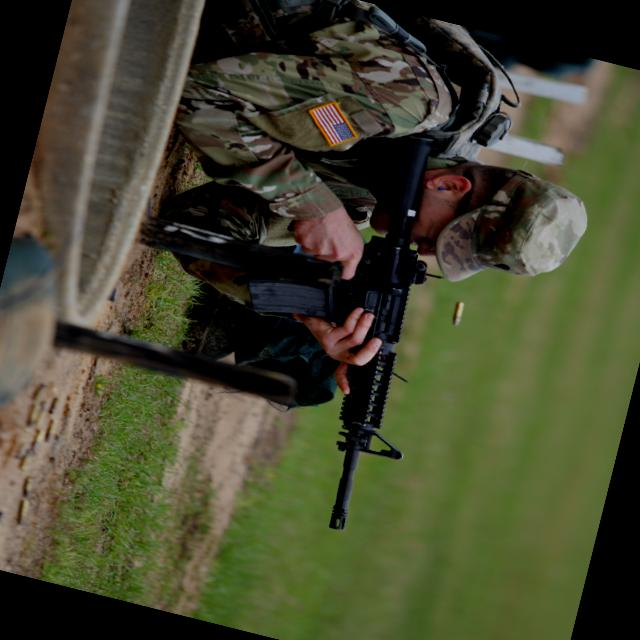long weapon: (121, 204, 468, 554)
